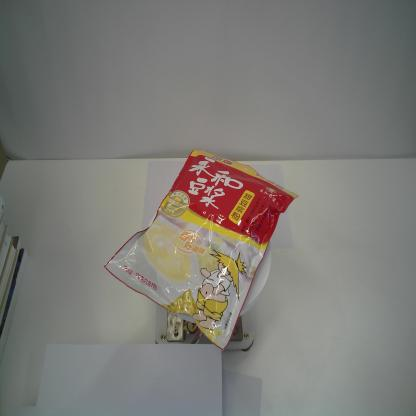Instant Drink: (103, 146, 299, 352)
